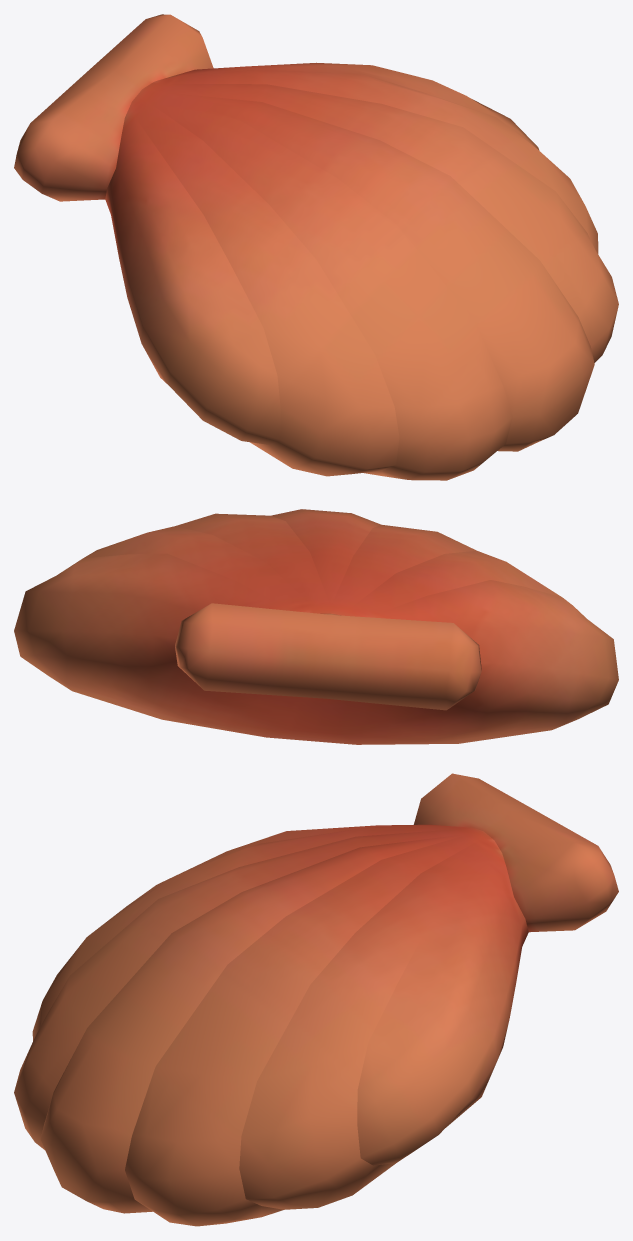
The model's file is clam.glb.
3 views of the same model, one above another, from view 1: azimuth 30°, elevation 25°; view 2: azimuth 150°, elevation 25°; view 3: azimuth 270°, elevation 25° (orthographic). The views are drawn at different scales.
Size of the model in its own units: 3.11 by 1.76 by 3.23.
1 material, 1 textured.
